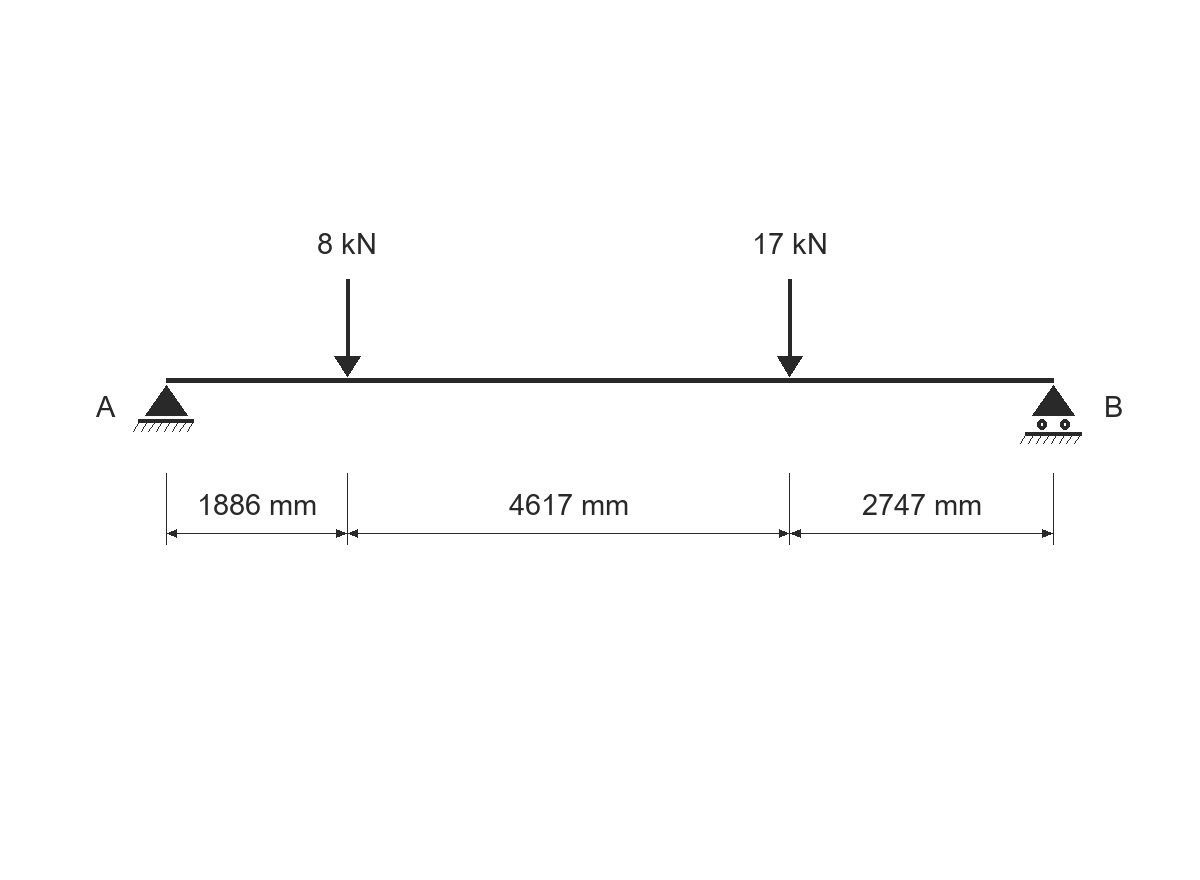pin_support: (133, 385, 194, 432)
point_load: (334, 279, 361, 377), (777, 279, 803, 377)
roller_support: (1020, 385, 1082, 444)
